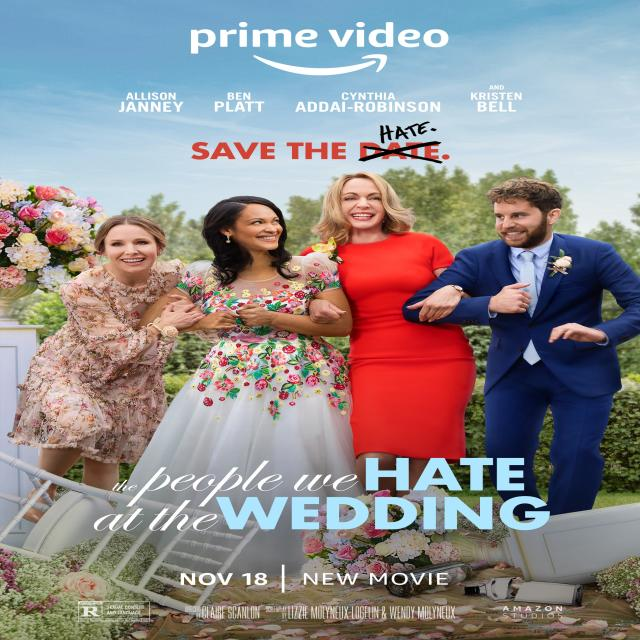adult: (396, 176, 640, 525), (170, 190, 352, 506), (300, 176, 470, 480), (28, 209, 181, 485)
